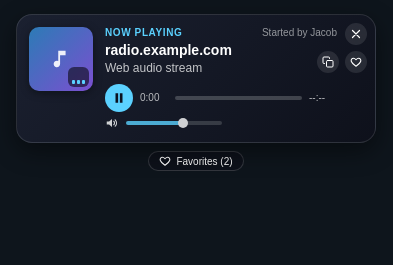
Test: RoomStreamWidgetView › lists the favorites with a link and lets a person remove one
Click the button "Favorites (2)".
click(196, 161)  # box [148, 151, 244, 171]
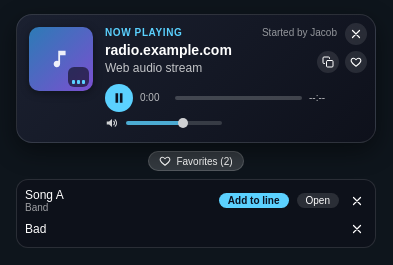
expect the text "Song A" is shown: met, box [25, 188, 64, 202]
expect the number of links "Open" is 1: met, box [296, 193, 339, 208]
Click the button named "Remove Song A from my favorites".
click(357, 200)  # box [347, 190, 367, 210]
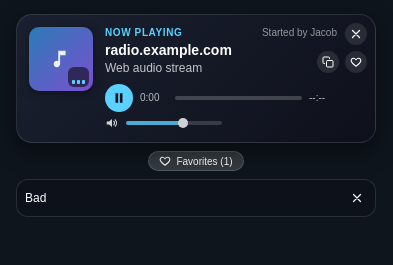
expect the text "Song A" is gone: met
expect the button "Favorites (1)" is shown: met, box [148, 151, 244, 171]
